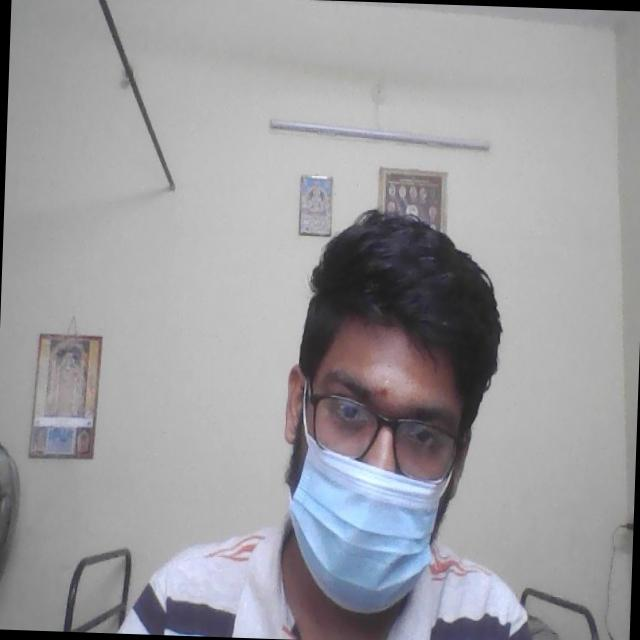Focused: (278, 319, 468, 600)
